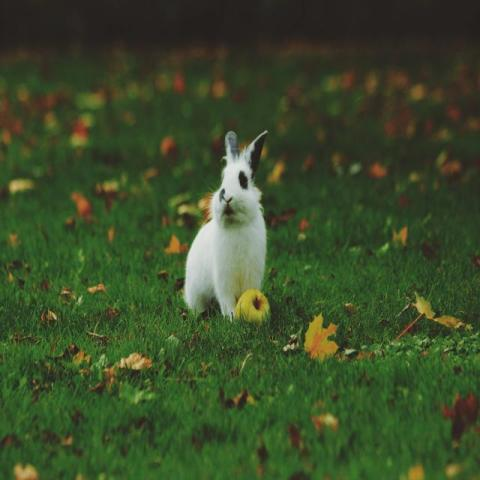small_animal: (181, 128, 271, 324)
